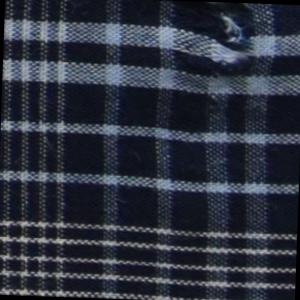Damage: (169, 2, 281, 107)
